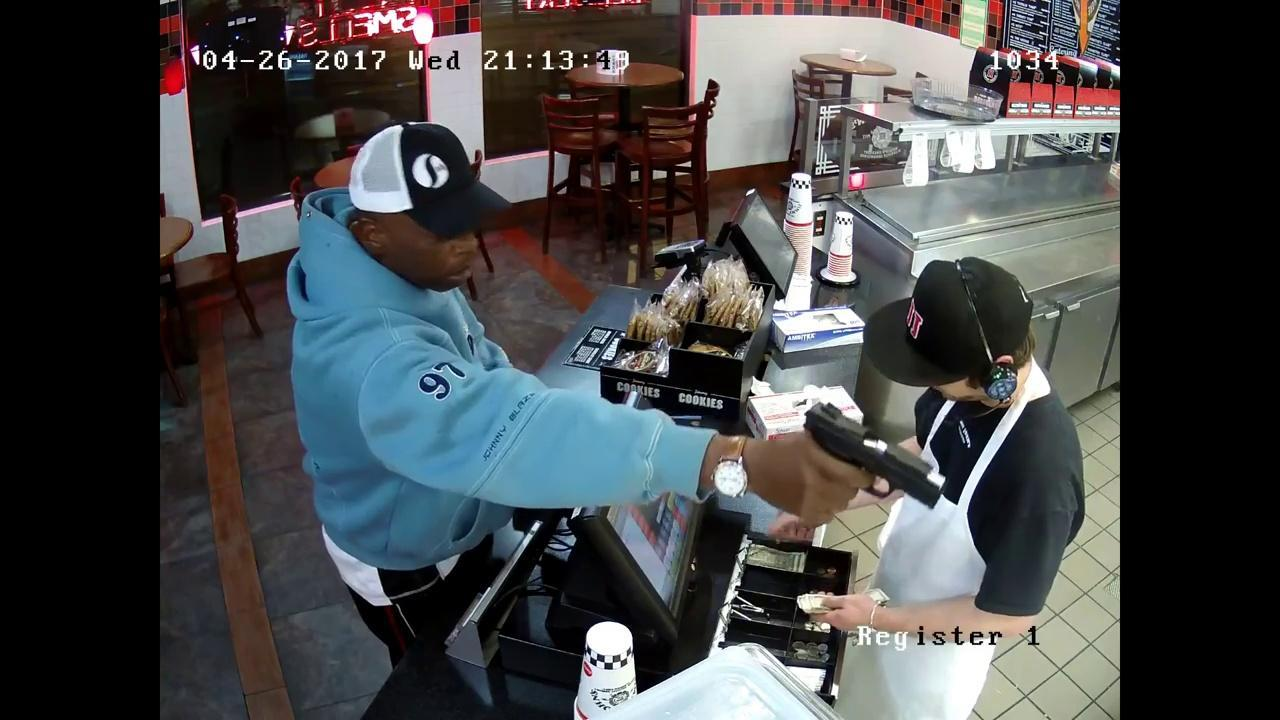Guns: (758, 387, 977, 525)
